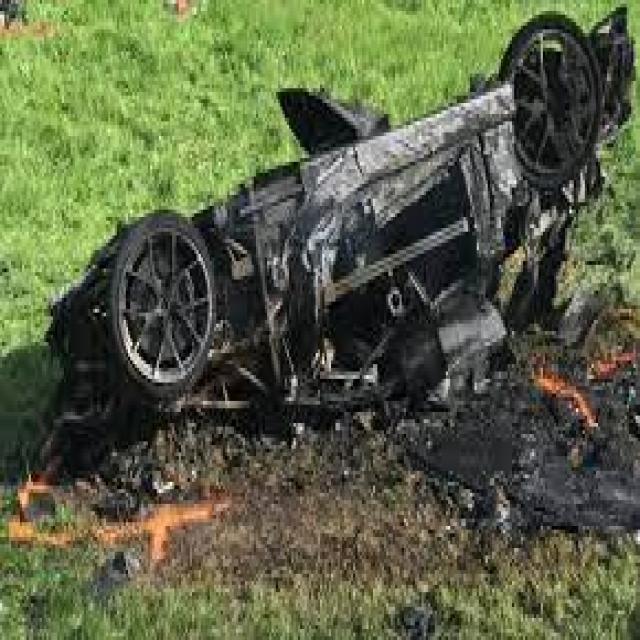severe: (39, 9, 636, 454)
